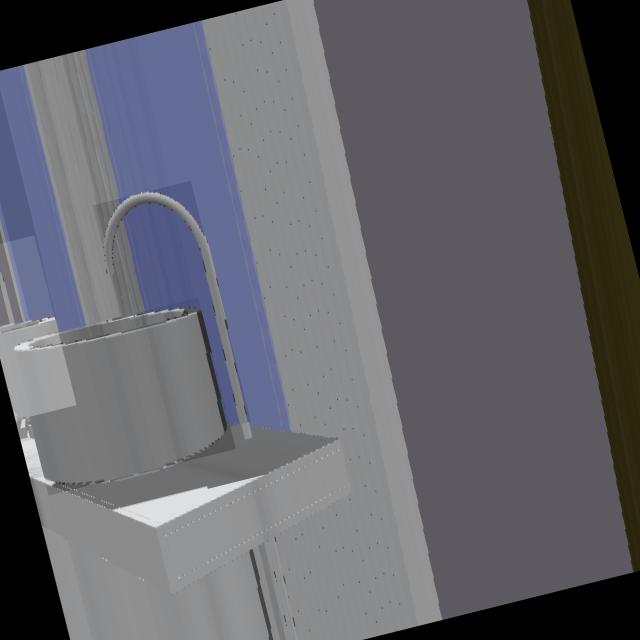washbasin: (15, 309, 228, 482), (105, 192, 246, 422), (0, 271, 58, 417)
